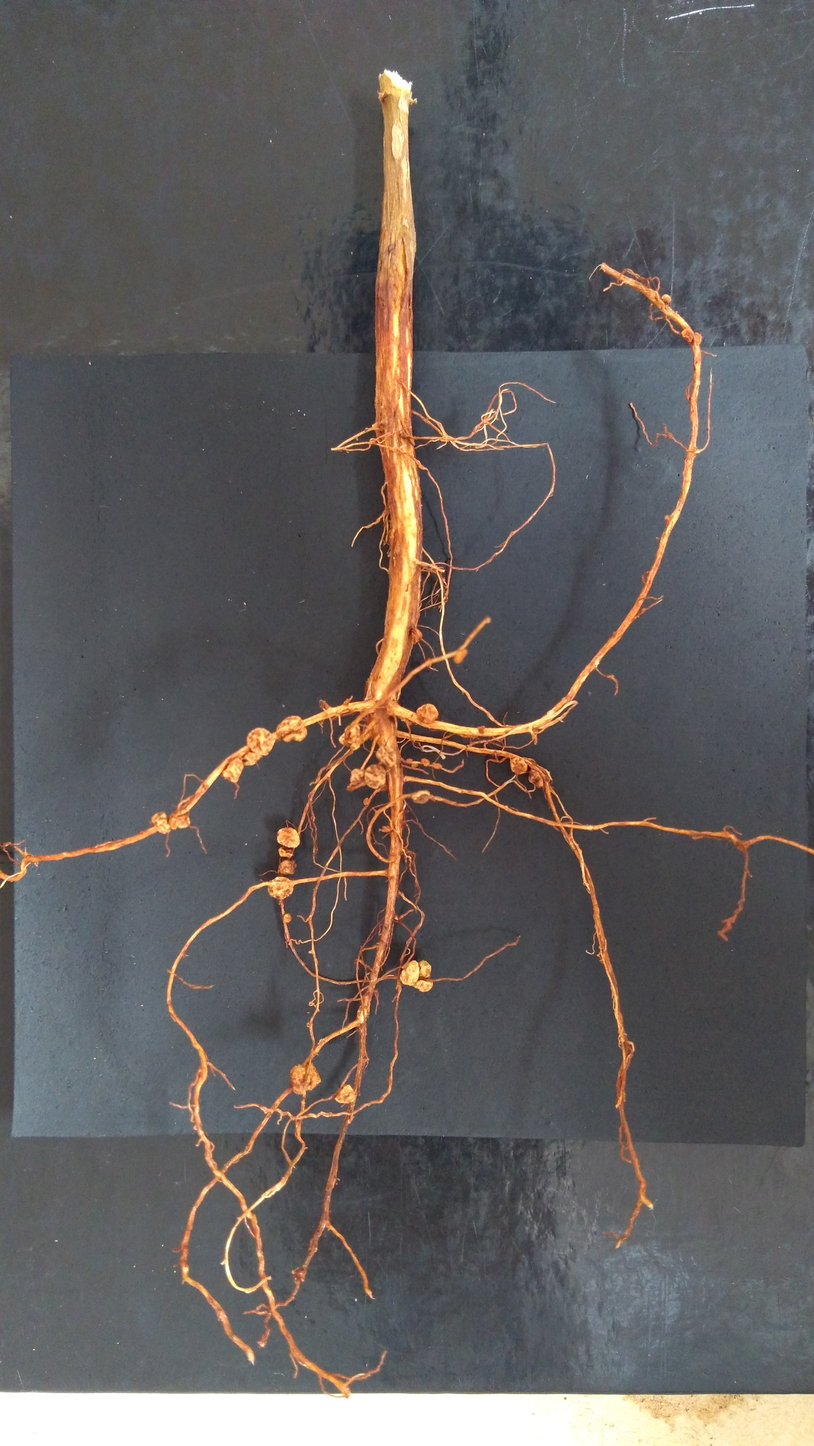nodule: (290, 1062, 322, 1095), (247, 727, 275, 757), (276, 716, 307, 743), (267, 876, 293, 900), (220, 757, 243, 783), (399, 959, 420, 987), (363, 764, 386, 789), (415, 702, 439, 725), (338, 724, 362, 747), (276, 827, 300, 849), (375, 744, 396, 769), (527, 766, 550, 788), (151, 810, 172, 834), (168, 810, 191, 831), (335, 1084, 357, 1105), (415, 959, 432, 980), (240, 749, 261, 765), (510, 757, 528, 775), (278, 860, 298, 876), (290, 1265, 306, 1285), (451, 647, 468, 665), (415, 977, 434, 993), (349, 767, 366, 784), (411, 790, 430, 804), (356, 1004, 370, 1022), (410, 627, 423, 646), (681, 328, 695, 343), (278, 847, 293, 859), (397, 715, 413, 726), (659, 293, 671, 304), (693, 331, 702, 345), (349, 742, 360, 752), (476, 725, 487, 735), (380, 824, 392, 832), (283, 912, 292, 922), (362, 796, 370, 806), (432, 762, 442, 770), (421, 758, 430, 766), (405, 758, 413, 764), (410, 762, 418, 768), (664, 514, 669, 522)
